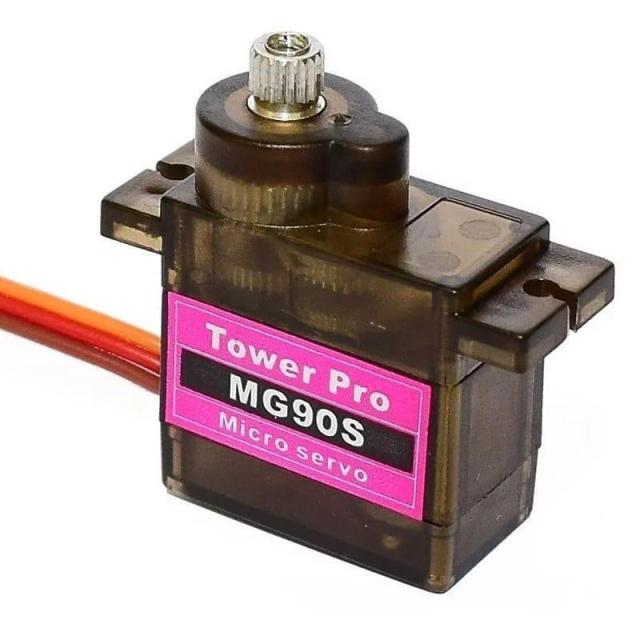servomotor: (106, 9, 582, 564)
